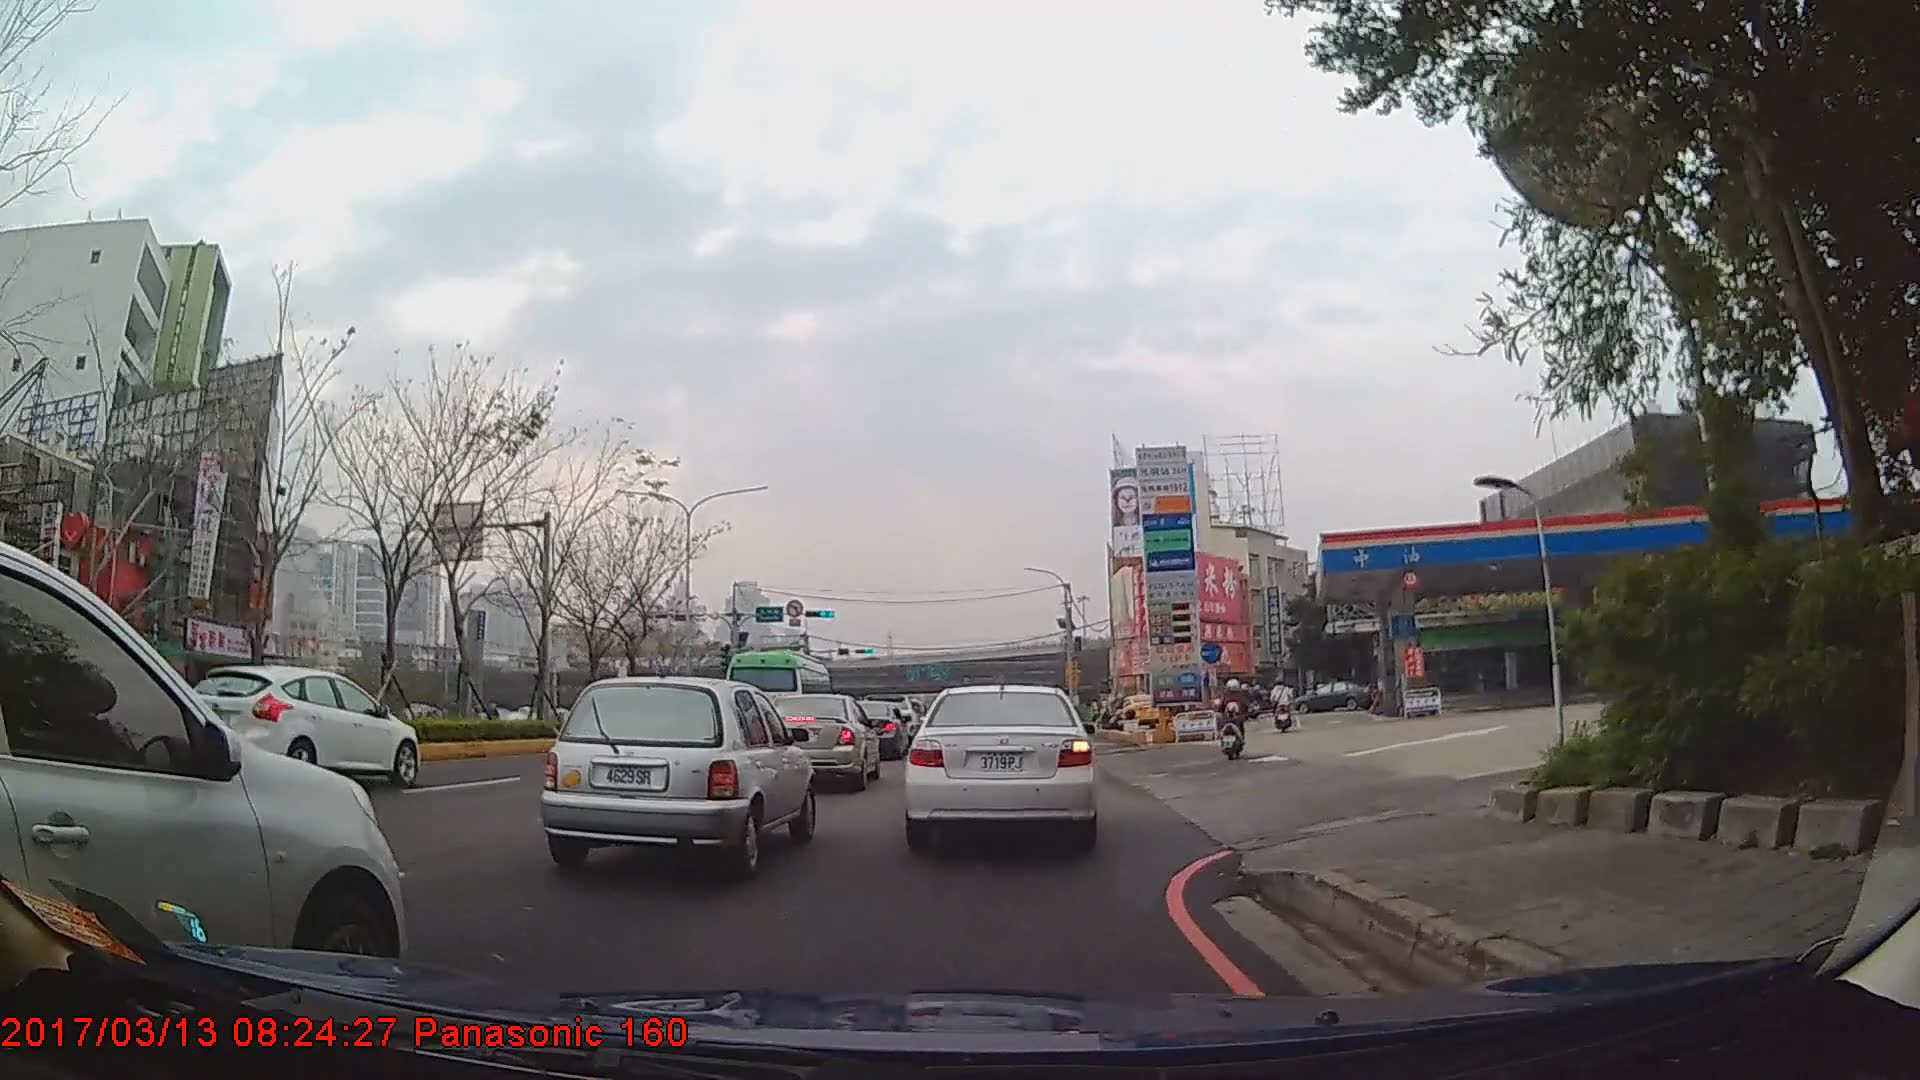rider: (1215, 675, 1249, 757), (1268, 677, 1295, 732)
vehicle: (0, 541, 406, 1008), (538, 672, 818, 877), (906, 679, 1096, 849), (186, 661, 419, 788), (752, 690, 878, 789), (723, 646, 832, 739), (836, 695, 910, 760), (1295, 679, 1372, 712), (1115, 690, 1162, 724)
